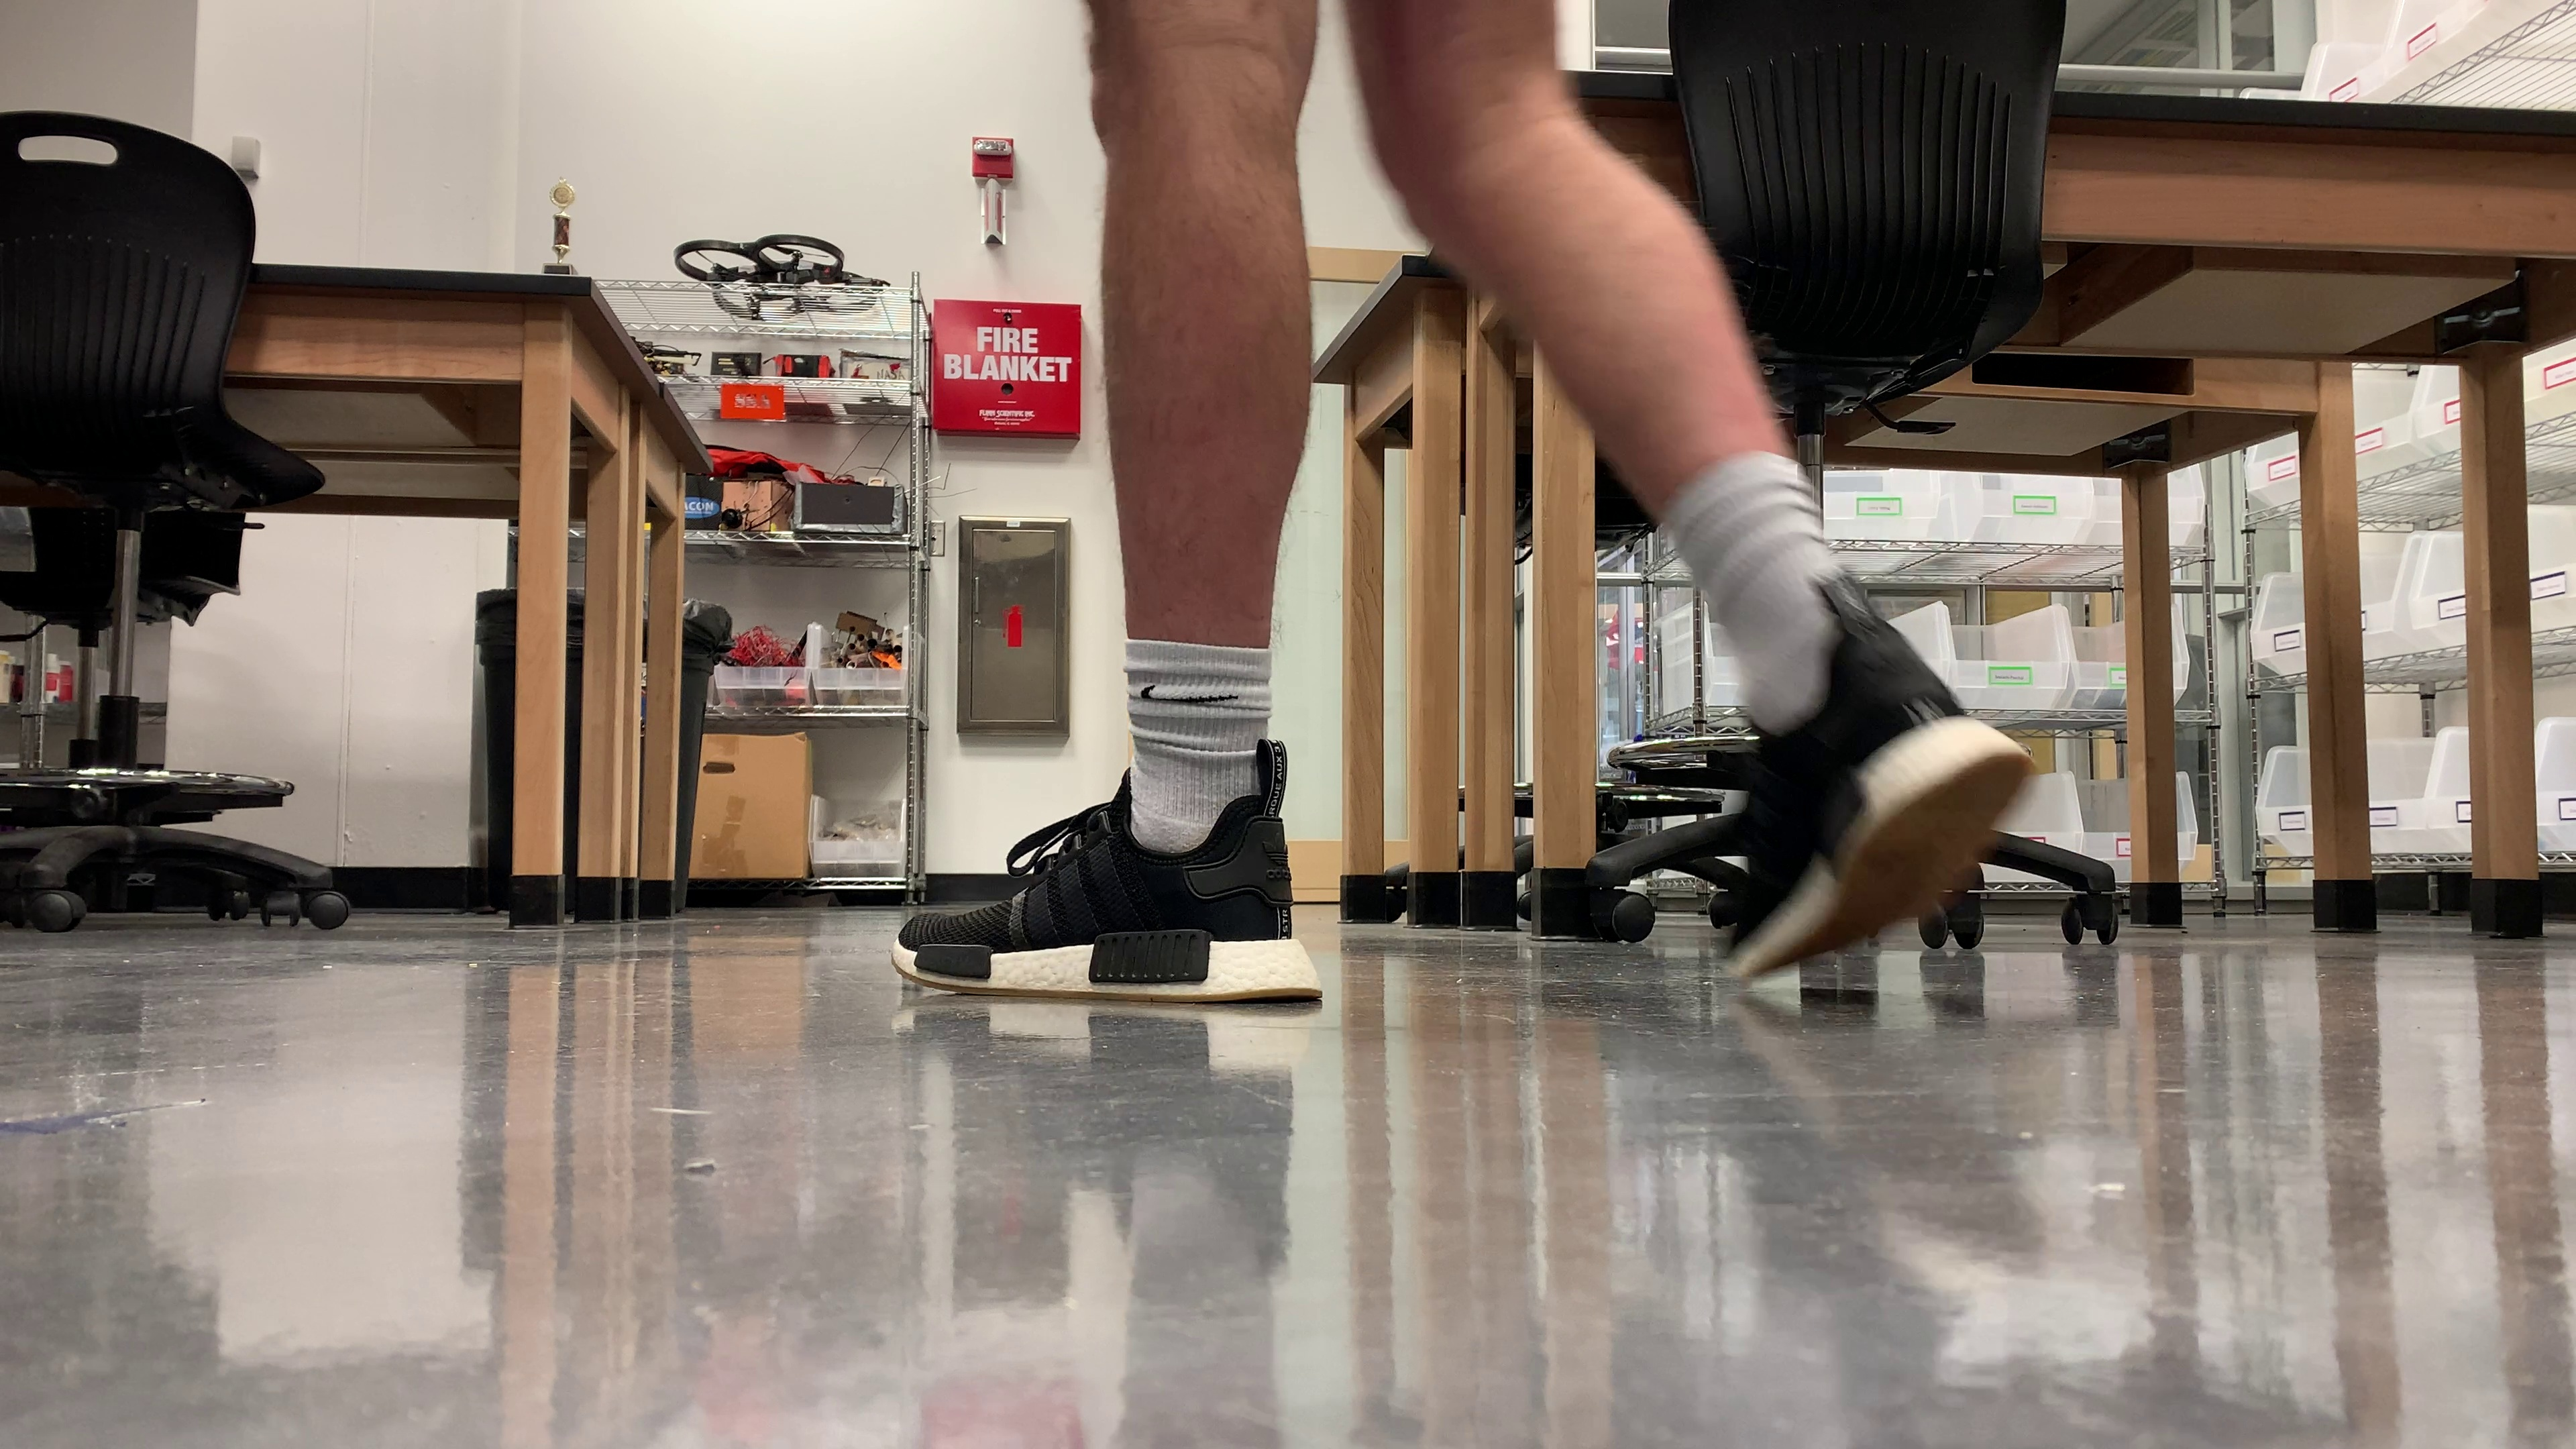shoe: (893, 764, 1320, 1005)
